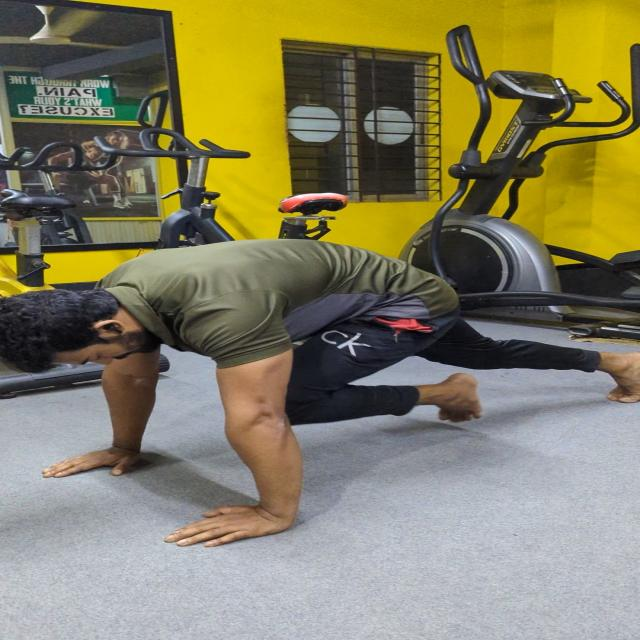Normal_MountainClimbers: (0, 225, 640, 558)
